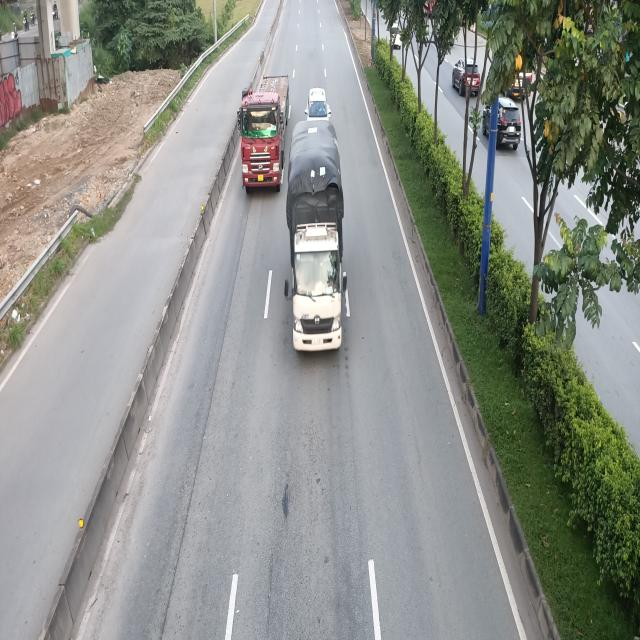container: (238, 76, 291, 195)
truck: (282, 122, 344, 357)
